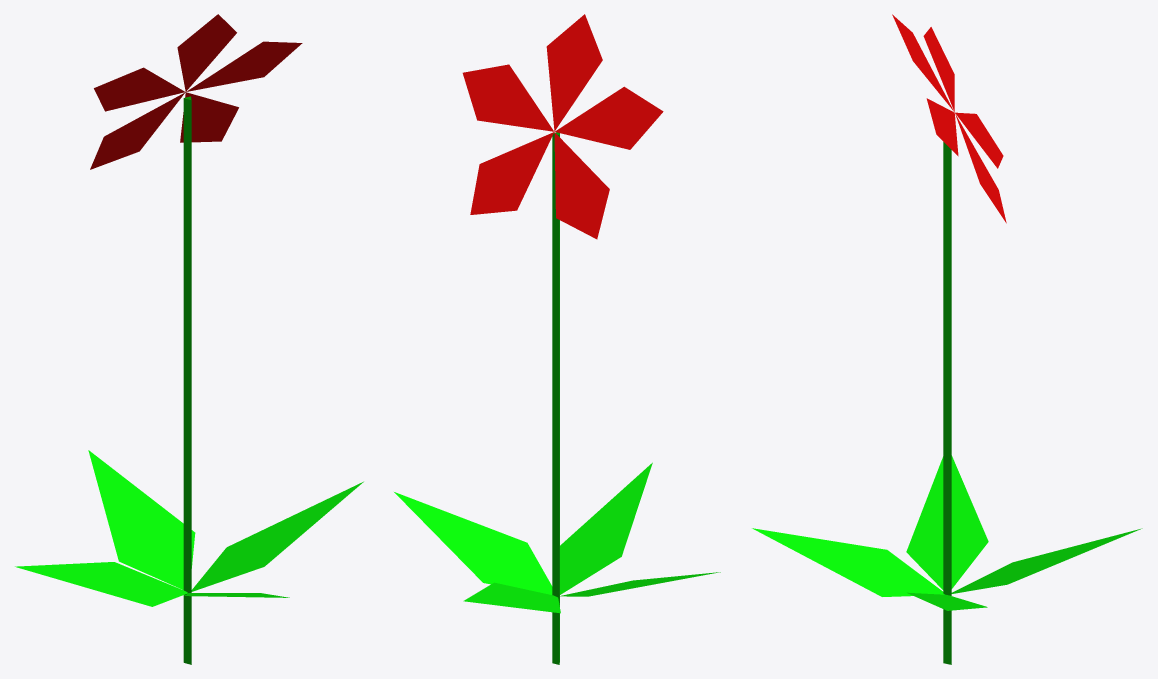
File: Flower 3.obj
3 renders of one model, left to right at view 1: azimuth 30°, elevation 25°; view 2: azimuth 150°, elevation 25°; view 3: azimuth 270°, elevation 25°, orthographic. The views are drawn at different scales.
Visible parts, largest first — view 1: leaves, petals, stem; view 2: petals, leaves, stem; view 3: leaves, petals, stem.
Boxes of the visible parts, x1,y1,x2,y2 form: leaves: (15, 450, 363, 606); petals: (90, 14, 302, 169); stem: (183, 96, 191, 664); petals: (462, 14, 663, 239); leaves: (394, 462, 720, 613); stem: (552, 132, 559, 664); leaves: (752, 455, 1142, 610); petals: (892, 14, 1006, 223); stem: (943, 142, 951, 664).
Bounding box in the file's own units: 4.68 × 8.55 × 4.68.
